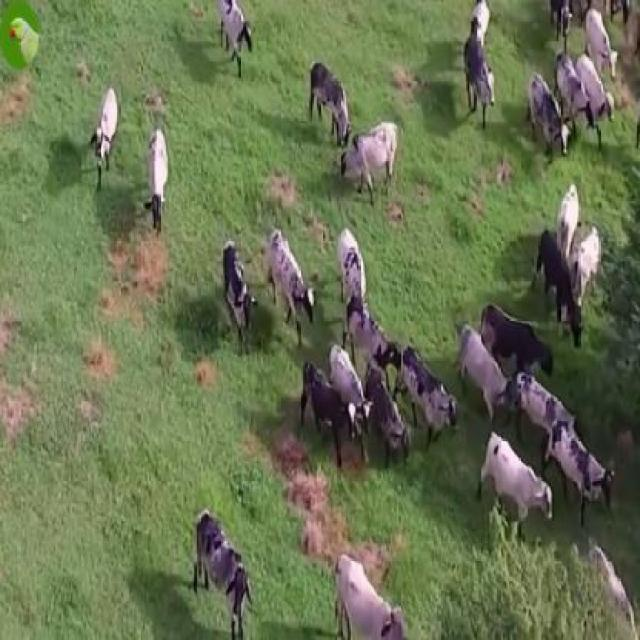Cow: (478, 434, 552, 541), (194, 509, 252, 638), (338, 120, 397, 202)
